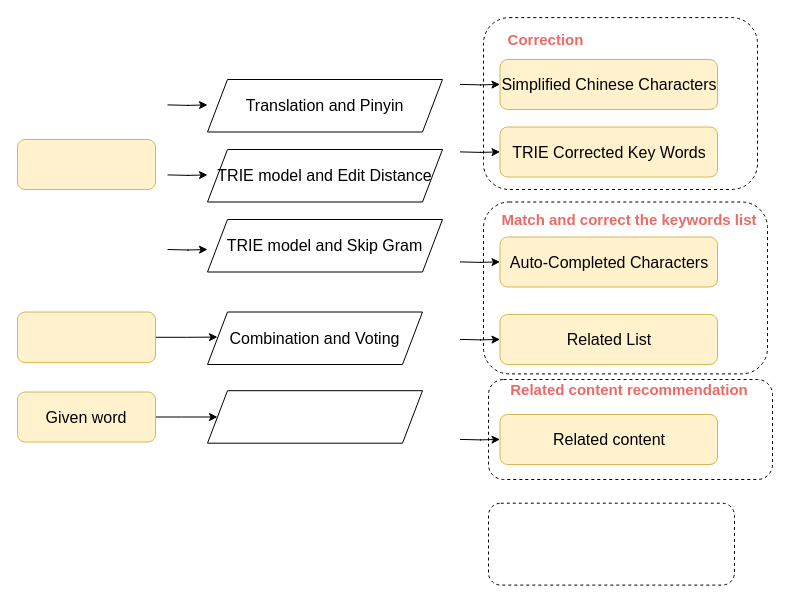
Some shapes in this 790 by 603 pixel diagram are drawn without their labels. Each missing label, with the centre of its shape:
Key Word: the point at 86,164
Product Tagging: the point at 86,337
Rule Based Mactching: the point at 314,416
Similar to “default keywords”: the point at 611,543
